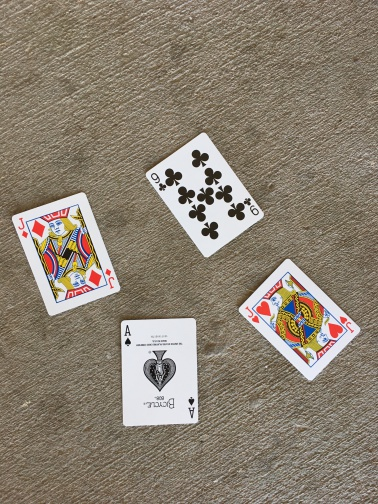ace: (119, 315, 201, 426)
jack: (237, 258, 362, 380), (11, 191, 123, 317)
nine: (145, 132, 265, 258)
